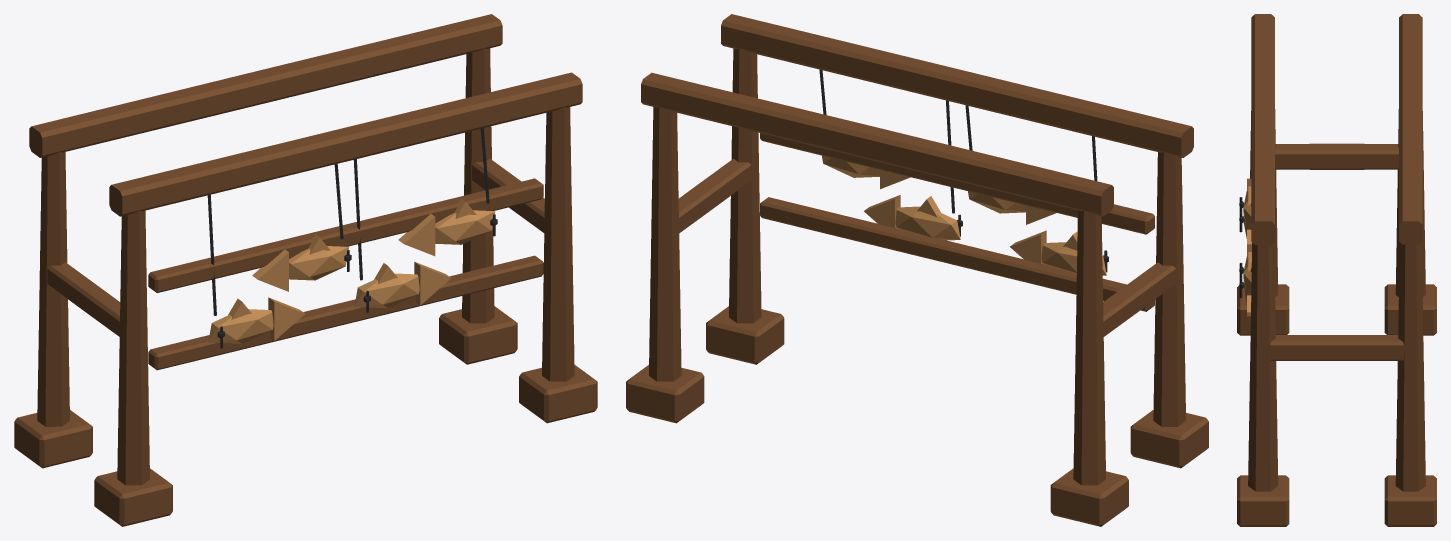
File: prop_fish_drying_rack_a.glb
3 views of the same model, side by side, from view 1: azimuth 30°, elevation 25°; view 2: azimuth 150°, elevation 25°; view 3: azimuth 270°, elevation 25° (orthographic). The views are drawn at different scales.
Visible parts, largest first — view 1: prop_fish_drying_rack_a_rack_material_00, prop_fish_drying_rack_a_rack_material_01, prop_fish_drying_rack_a_rack_material_02; view 2: prop_fish_drying_rack_a_rack_material_00, prop_fish_drying_rack_a_rack_material_01, prop_fish_drying_rack_a_rack_material_02; view 3: prop_fish_drying_rack_a_rack_material_00, prop_fish_drying_rack_a_rack_material_01, prop_fish_drying_rack_a_rack_material_02.
Boxes of the visible parts, box(x1,y1,x2,y2) form: prop_fish_drying_rack_a_rack_material_00: box(14, 14, 597, 526); prop_fish_drying_rack_a_rack_material_01: box(208, 198, 495, 343); prop_fish_drying_rack_a_rack_material_02: box(207, 128, 497, 348); prop_fish_drying_rack_a_rack_material_00: box(626, 14, 1208, 526); prop_fish_drying_rack_a_rack_material_01: box(822, 155, 1106, 275); prop_fish_drying_rack_a_rack_material_02: box(819, 69, 1108, 272); prop_fish_drying_rack_a_rack_material_00: box(1237, 14, 1436, 526); prop_fish_drying_rack_a_rack_material_01: box(1243, 178, 1252, 316); prop_fish_drying_rack_a_rack_material_02: box(1239, 197, 1251, 297).
Bounding box in the file's own units: 2.14 × 1.41 × 0.8399.
